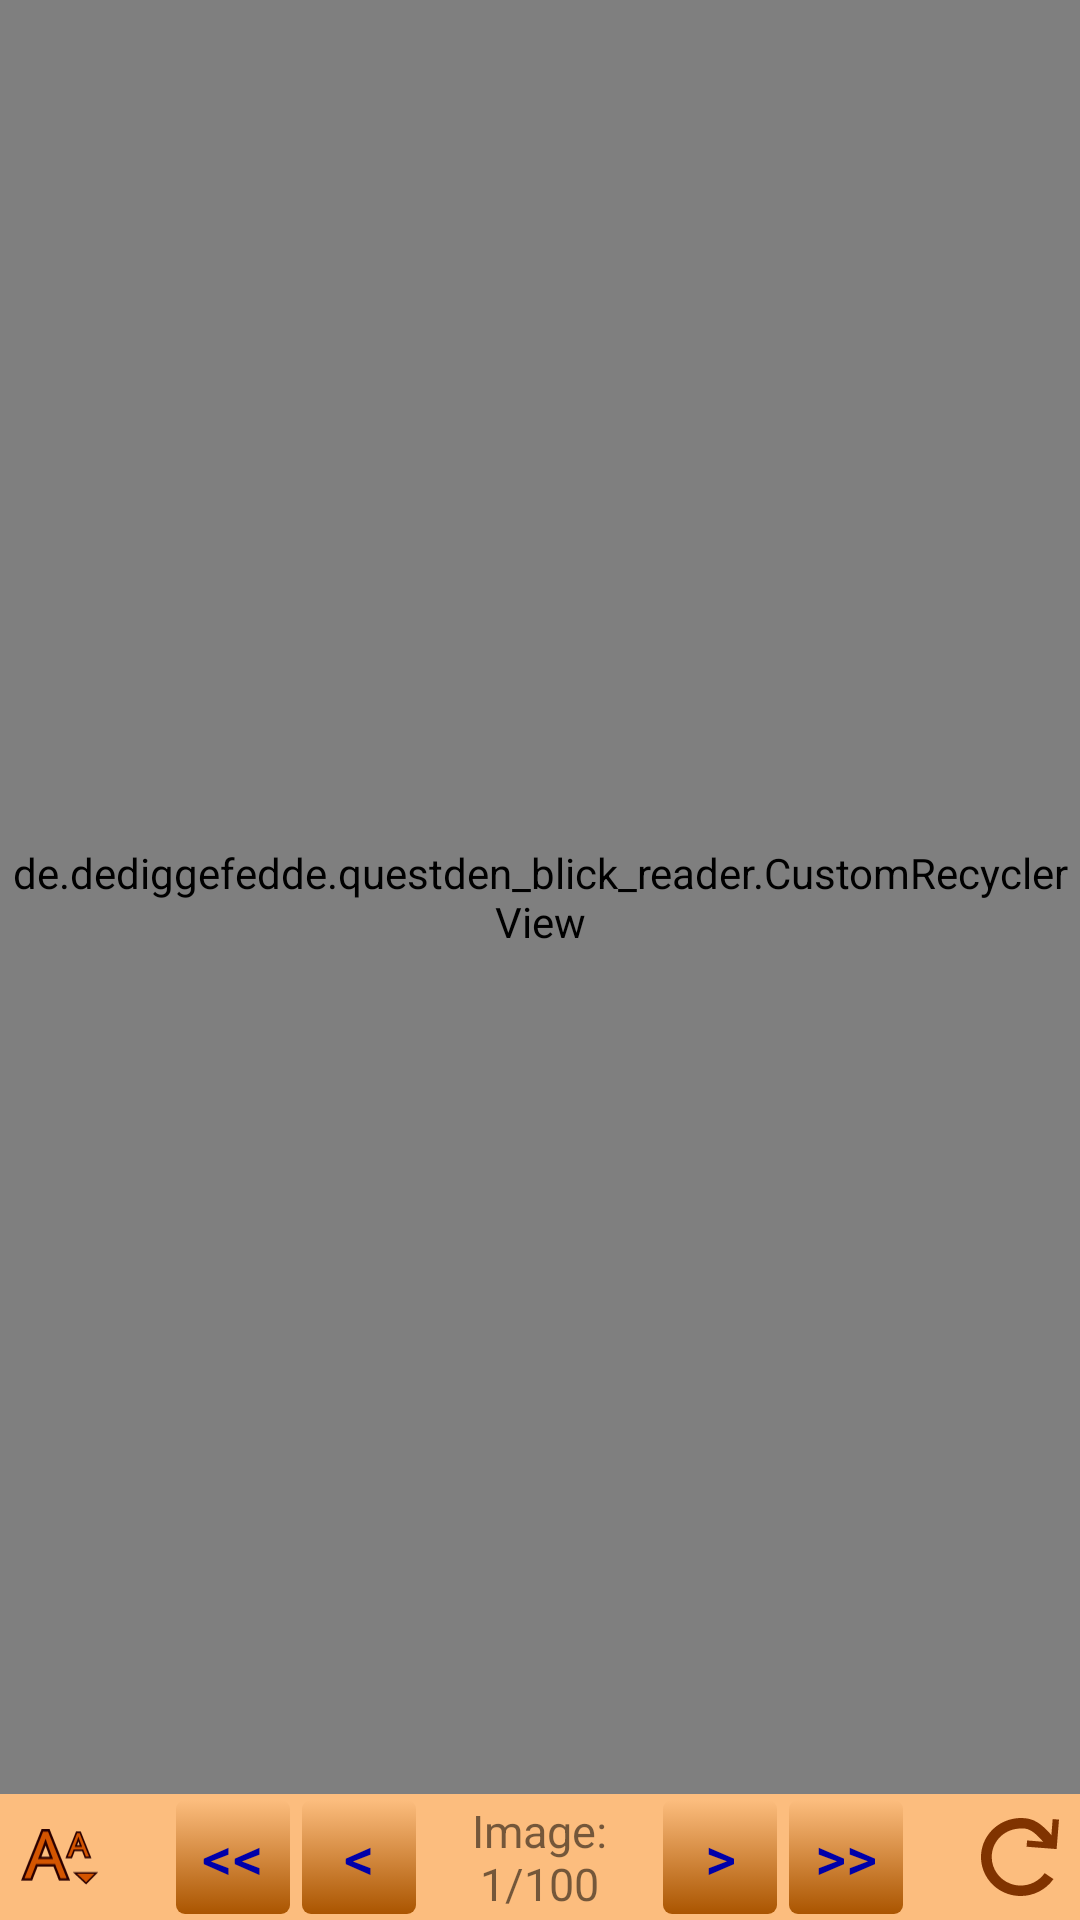

Named icons in this screenshot (1080 × 1920) and their bounding boxes, [x1=x1, y1=y1, x2=x2, y2=y2]:
Open Appearance menu: [x1=21, y1=1829, x2=98, y2=1885]
Update Page: [x1=981, y1=1818, x2=1059, y2=1896]
